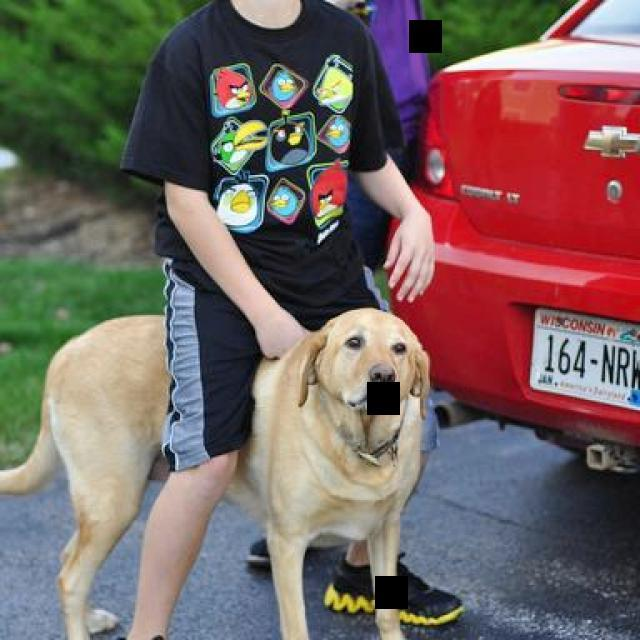adult_dog: (1, 309, 432, 640)
